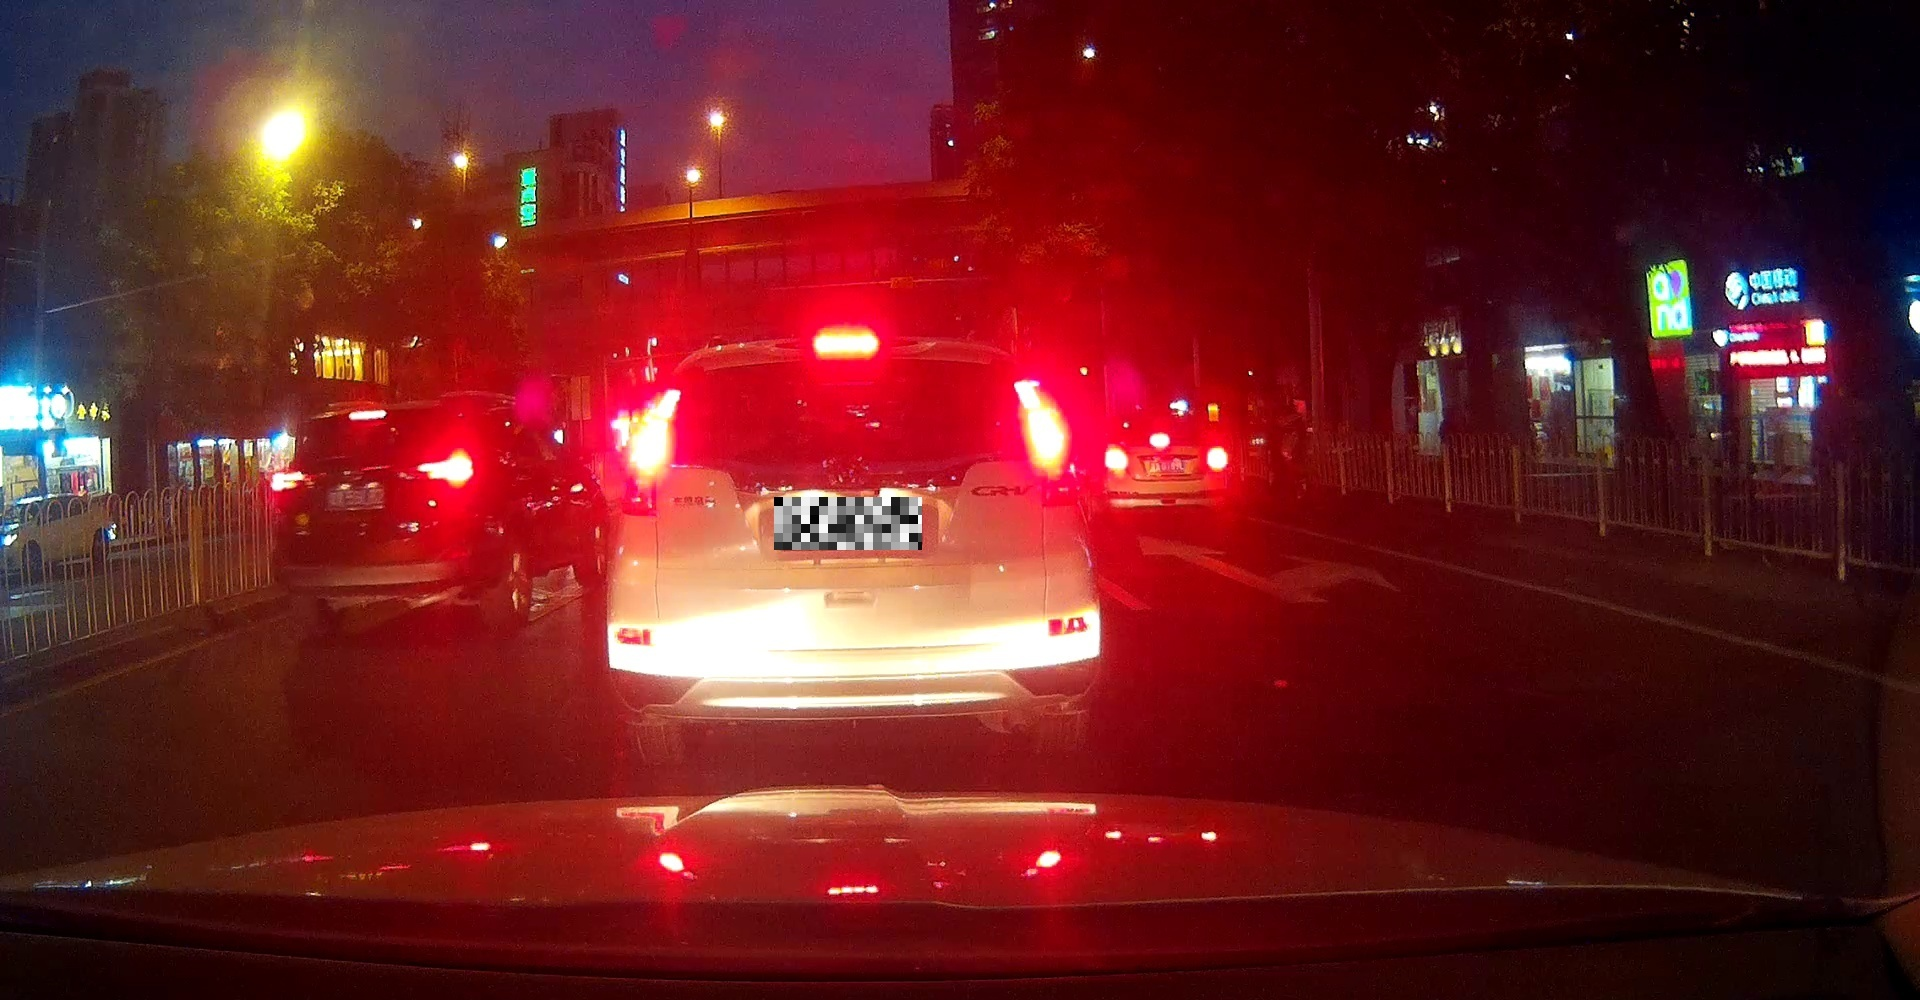L_light: (617, 390, 681, 518), (269, 470, 317, 491), (1106, 448, 1128, 470)
R_light: (1013, 379, 1082, 505), (415, 459, 475, 484), (1208, 448, 1228, 470)
T_light: (814, 332, 880, 354), (348, 409, 389, 420), (1150, 434, 1170, 445)
night-brake: (606, 327, 1102, 766), (265, 400, 483, 626), (1103, 431, 1230, 515)
plate_1: (775, 497, 922, 549)
